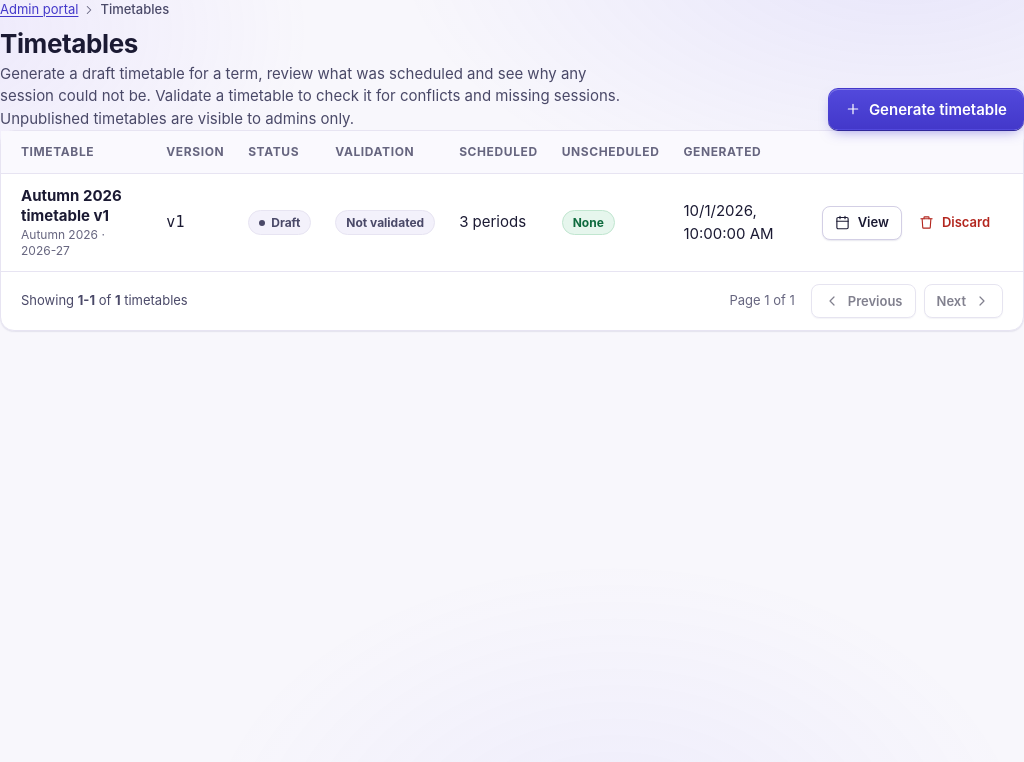
Test: Editing a class › saves, closes, shows the fresh validation result and the new grid
Click the button "View" at (862, 223), box [822,206,902,240]
(page scrolled)
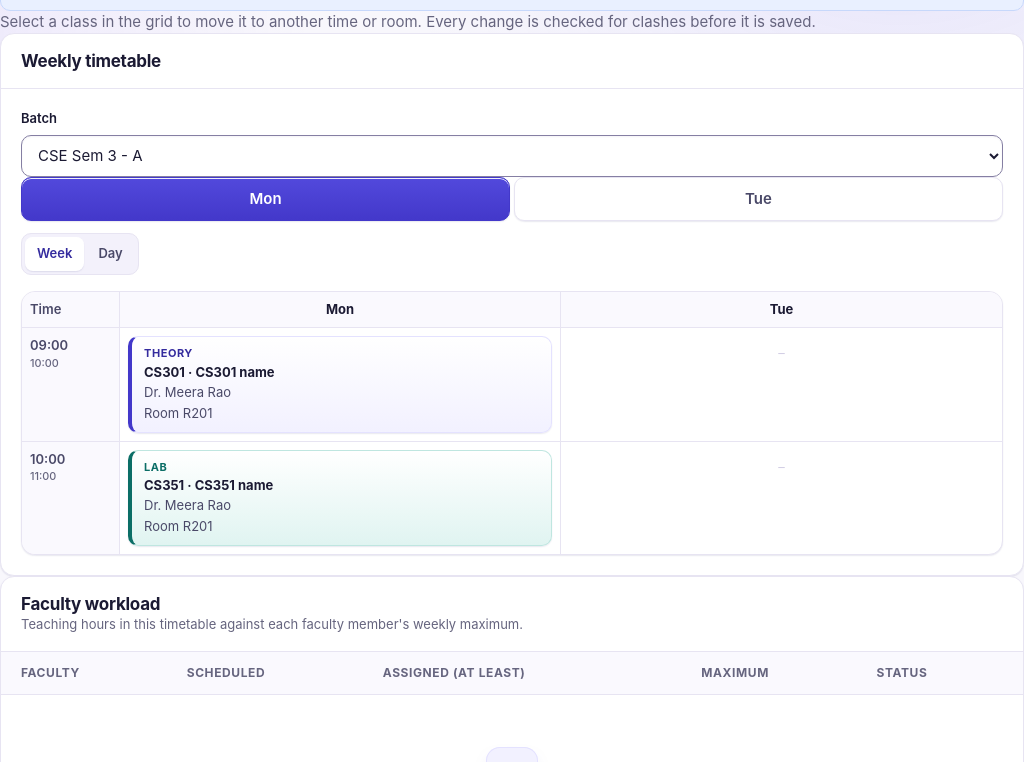
Click the button with aria-label "Move CS301" at (340, 384), box [128,336,552,433]
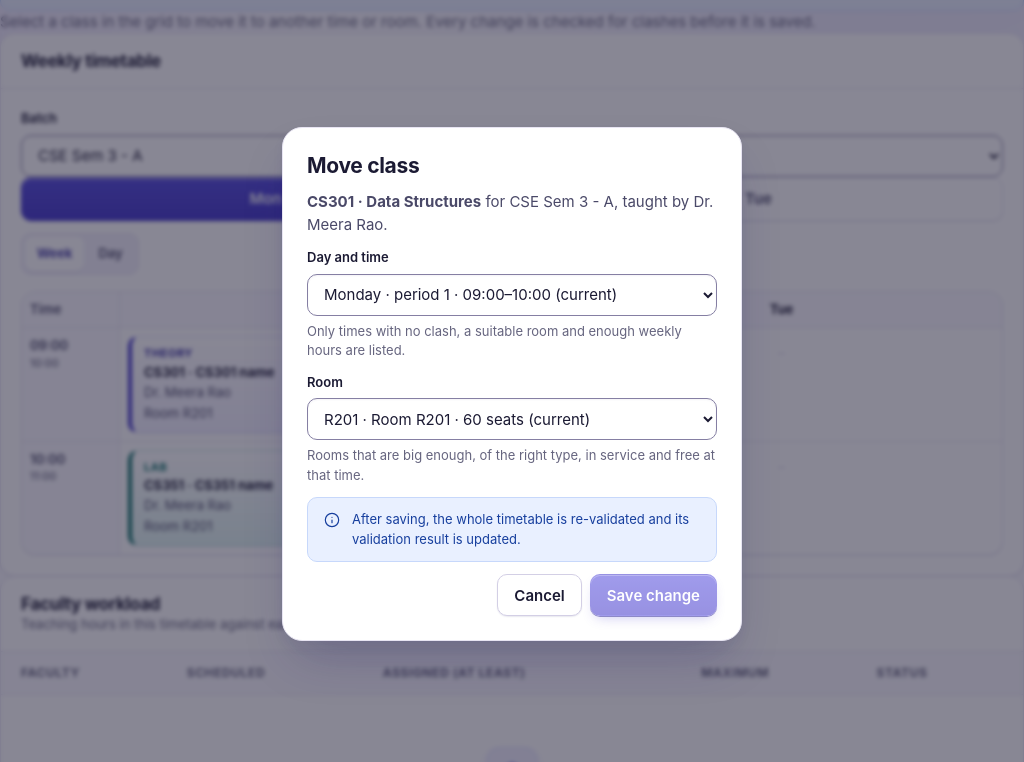
Select "Tuesday · period 1 · 09:00–10:00" in the dropdown labelled "Day and time" at (512, 295), box [307,274,717,316]
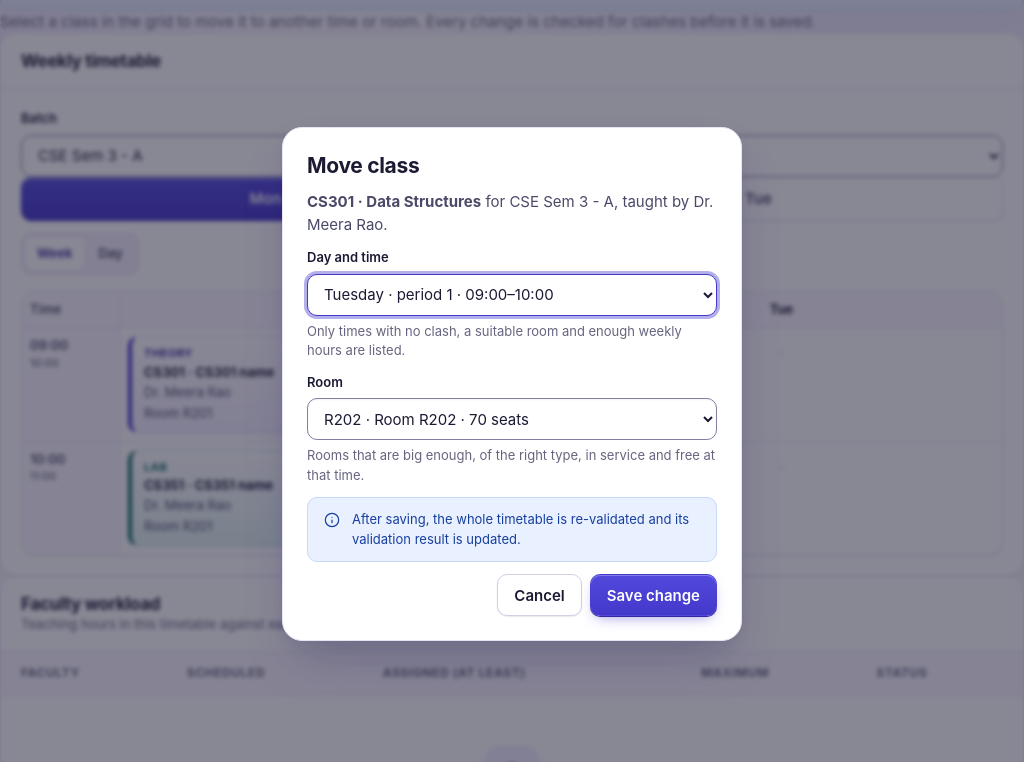
Click the button "Save change" at (653, 595), box [590,574,717,616]
(page scrolled)
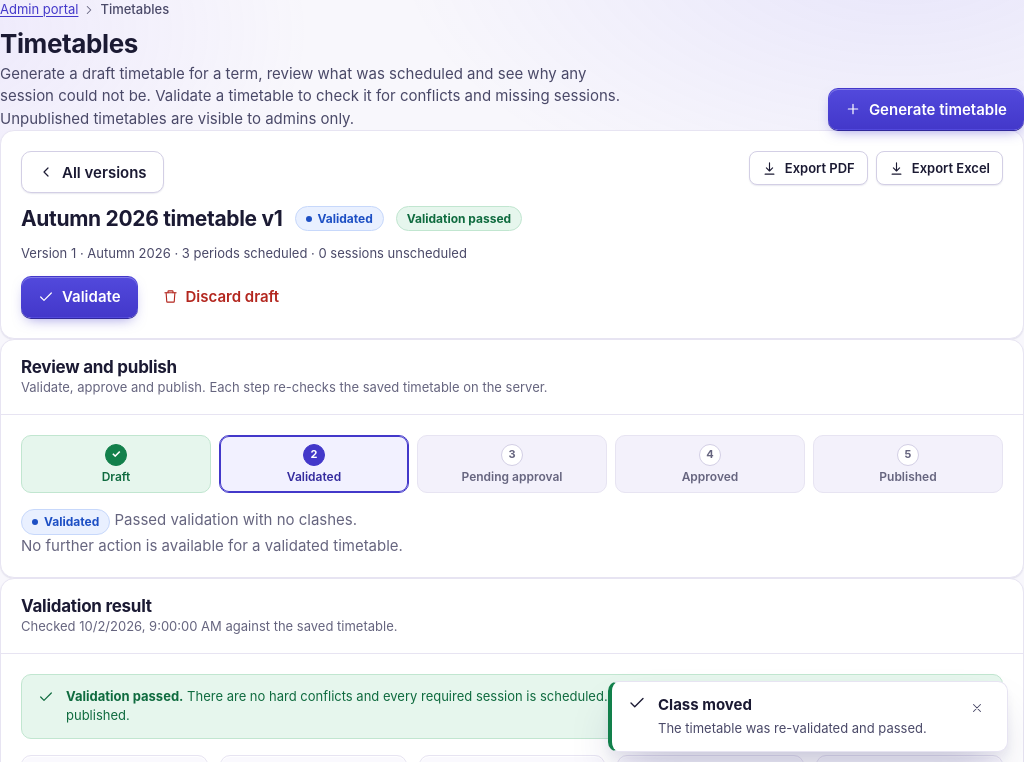
Result: the heading "Move class" is gone
Result: the text "Class moved" is shown at [658,695,752,714]
Result: the text "Validation passed." is shown at [66,688,183,704]
